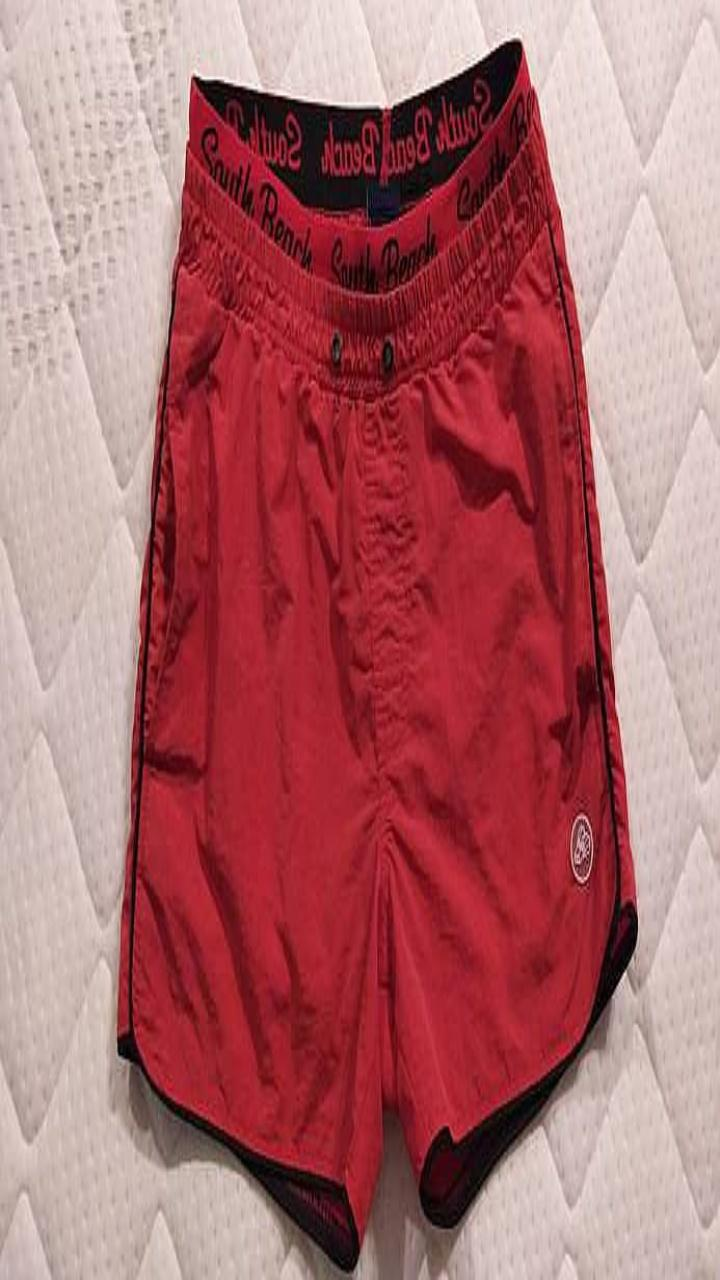Shorts: (118, 40, 636, 1268)
